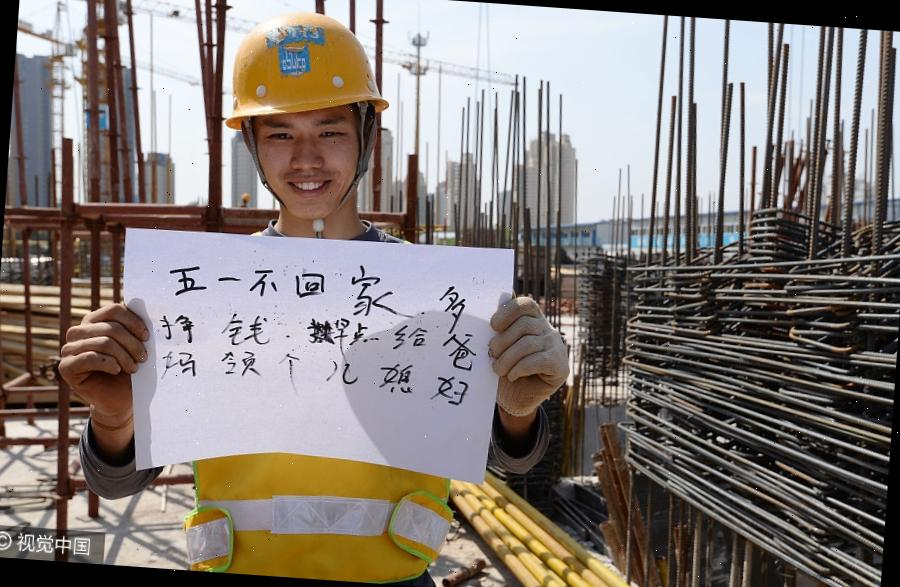helmet: (223, 5, 400, 139)
wear: (183, 455, 460, 587)
